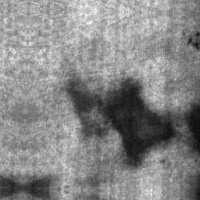patches: (103, 77, 179, 167), (63, 76, 111, 142), (180, 101, 199, 157)
